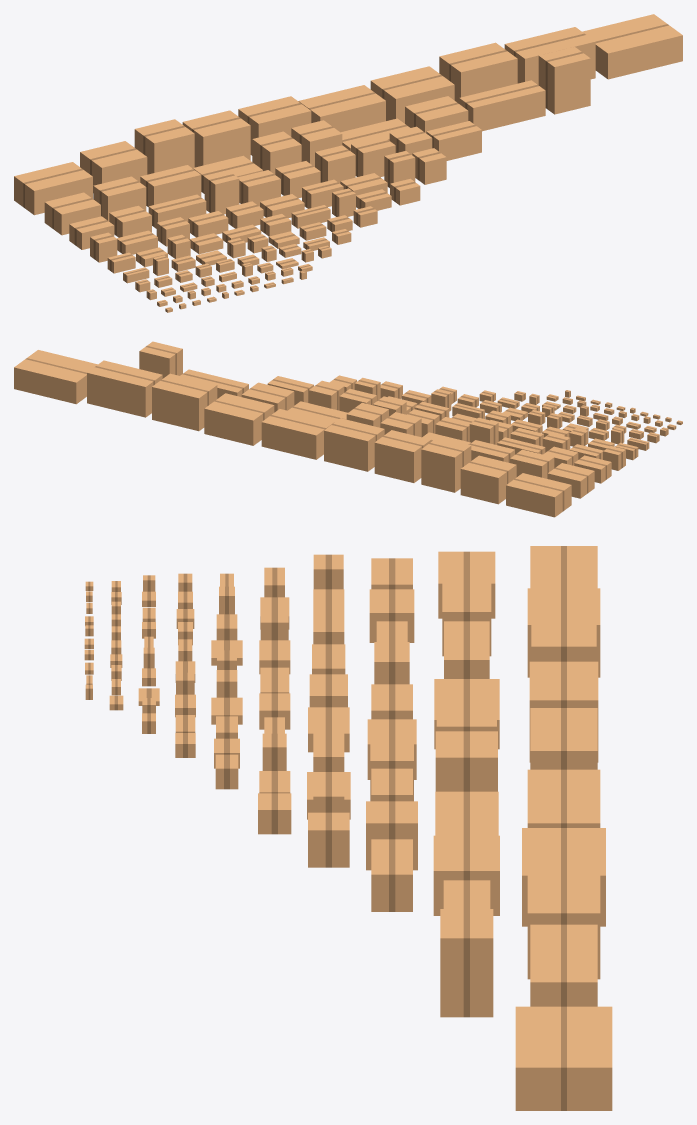
3 views of the same model, one above another, from view 1: azimuth 30°, elevation 25°; view 2: azimuth 150°, elevation 25°; view 3: azimuth 270°, elevation 25° (orthographic). The views are drawn at different scales.
Size of the model in its own units: 11.95 by 0.84 by 5.08.
